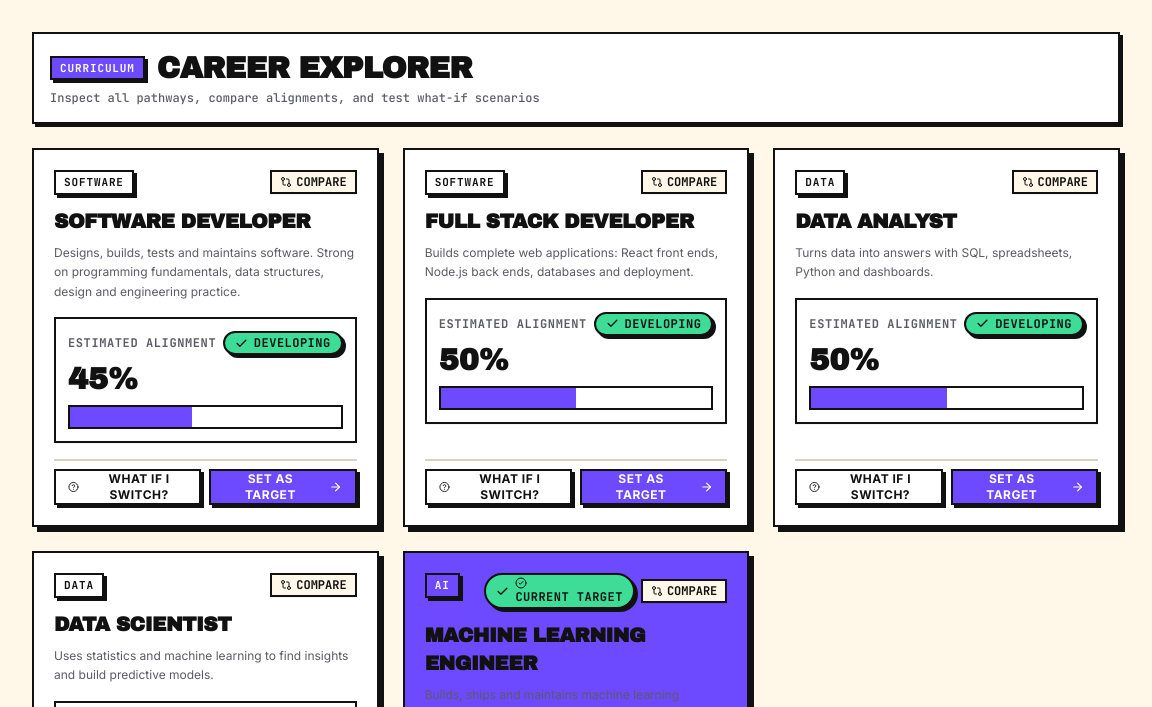
Scenario: CareerExplorer Page (/app/careers) › clicking WHAT IF I SWITCH? opens the what-if simulation modal
The width and height of the screenshot is (1152, 707).
Expected: the heading "Data Scientist" is shown, [54,612,231,634]
Click the button "WHAT IF I SWITCH?" below "45" at (128,487), box [54,469,201,505]
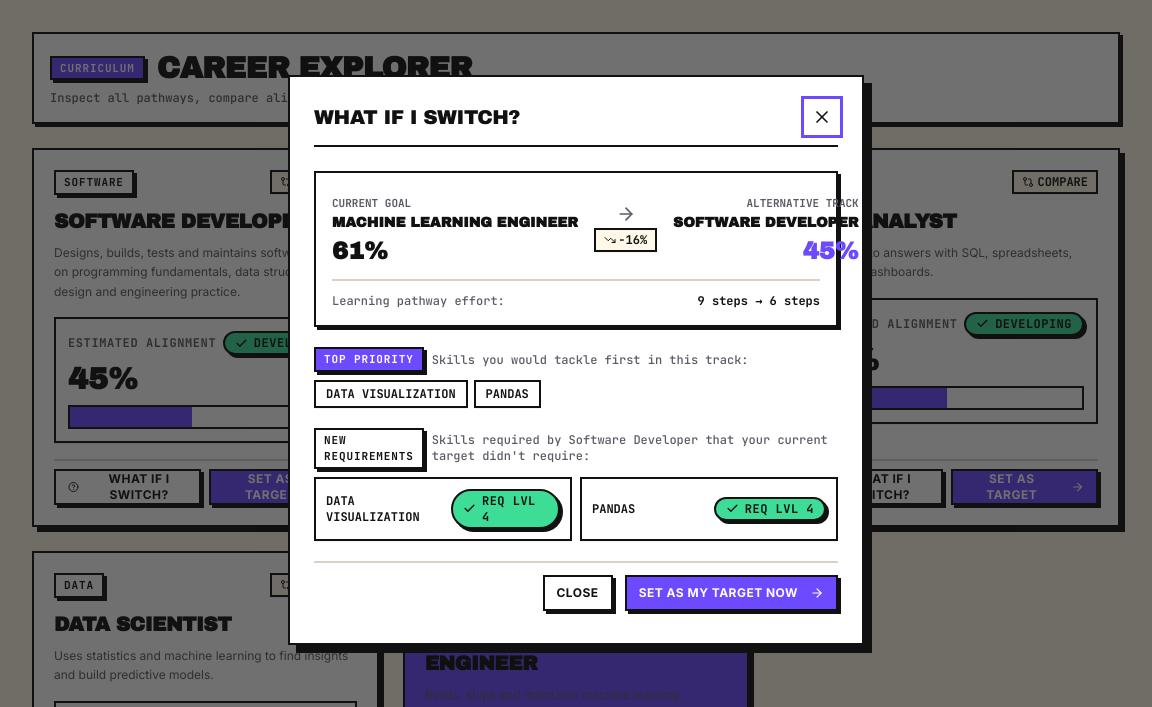
Expected: the heading "WHAT IF I SWITCH?" is shown, [314,103,520,131]
Expected: the text "CURRENT GOAL" is shown, [332,196,411,210]
Expected: the text "ALTERNATIVE TRACK" is shown, [746,196,859,210]
// Close modal
Click the button "CLOSE" at (578,593), box [542,575,613,611]
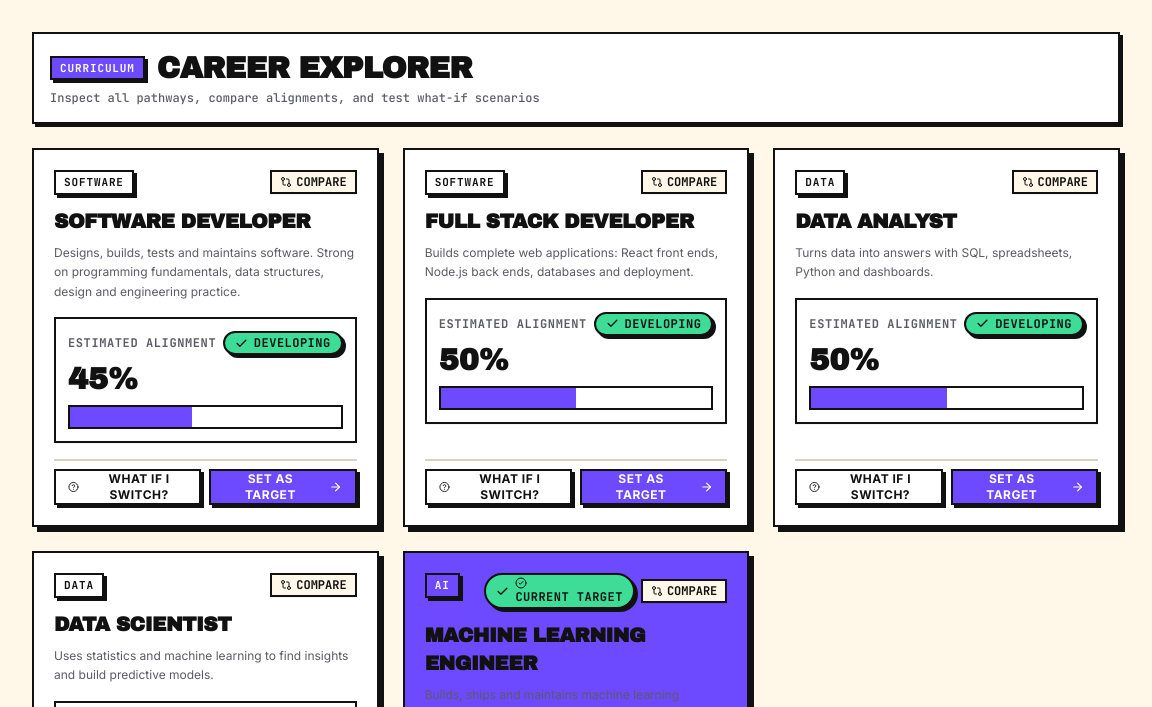
Expected: the text "CURRENT GOAL" is gone
